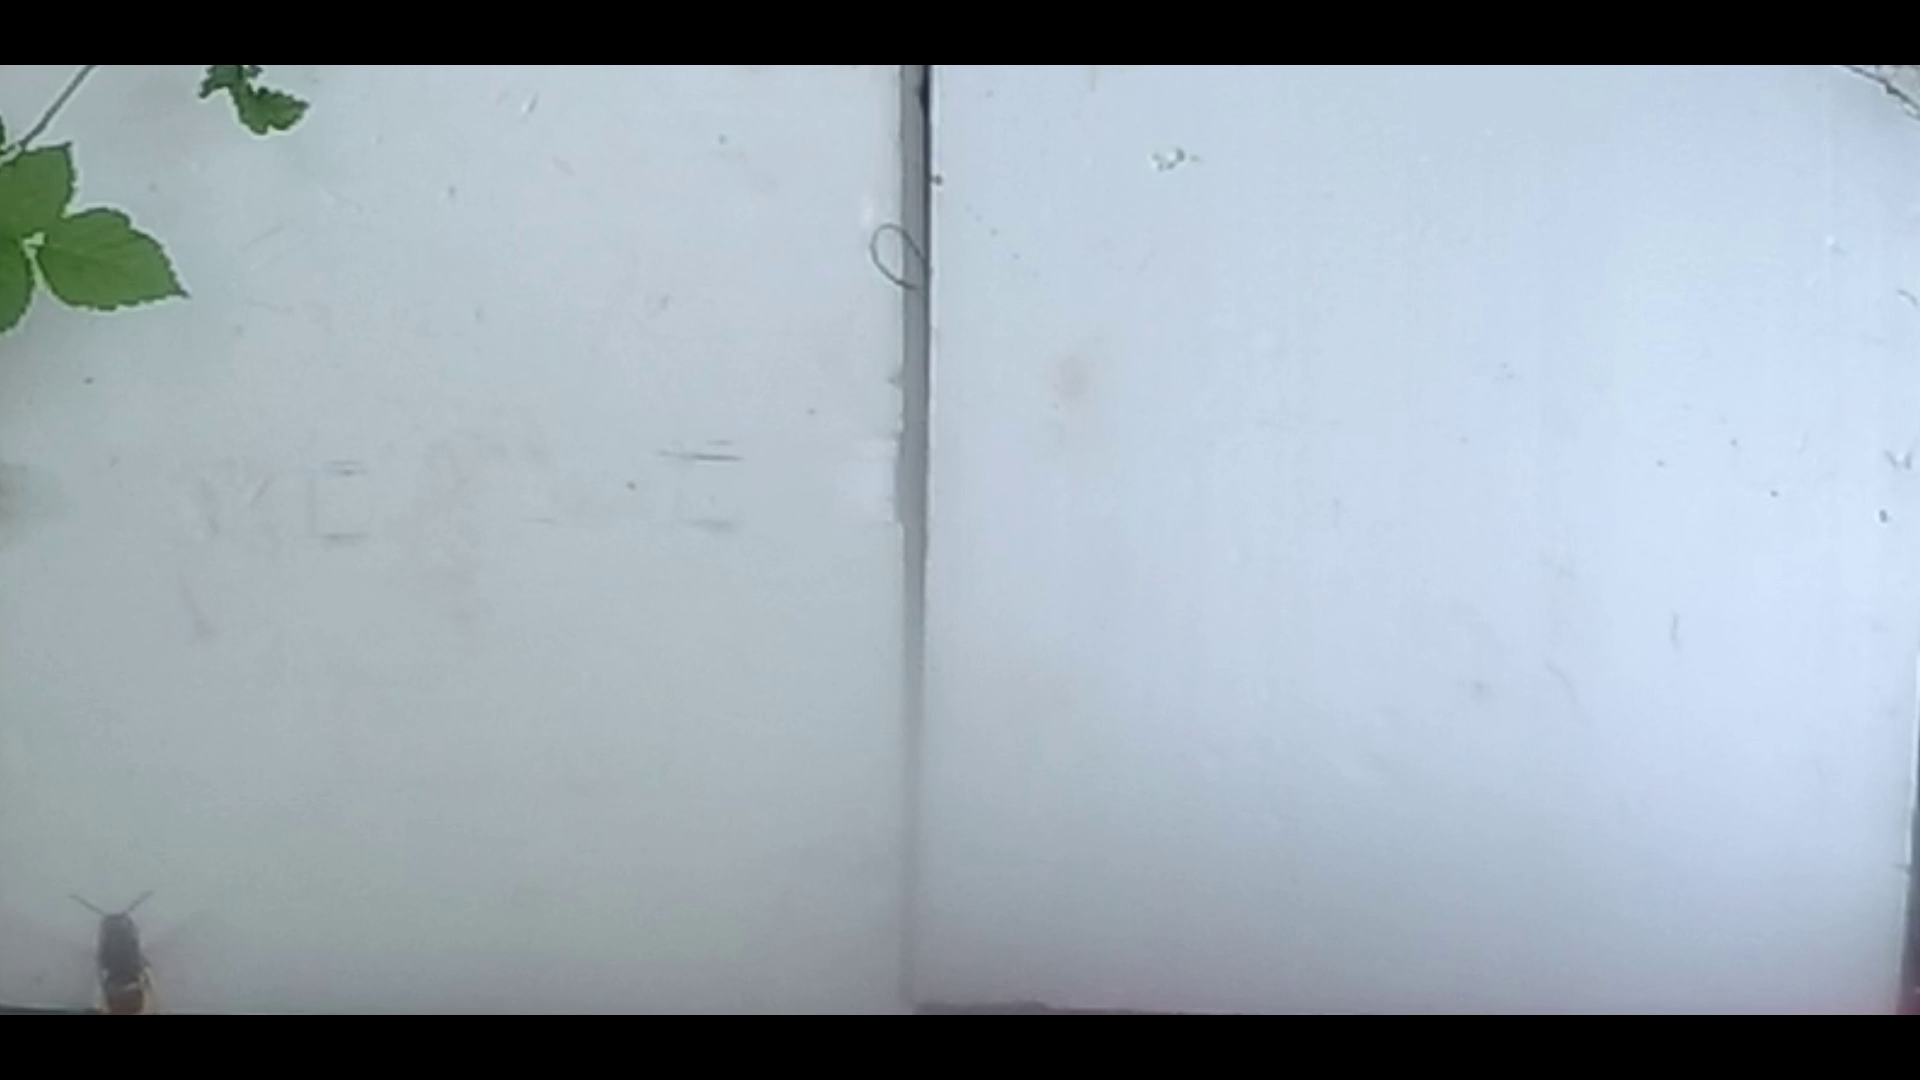Asian_hornets: (53, 881, 203, 1015)
